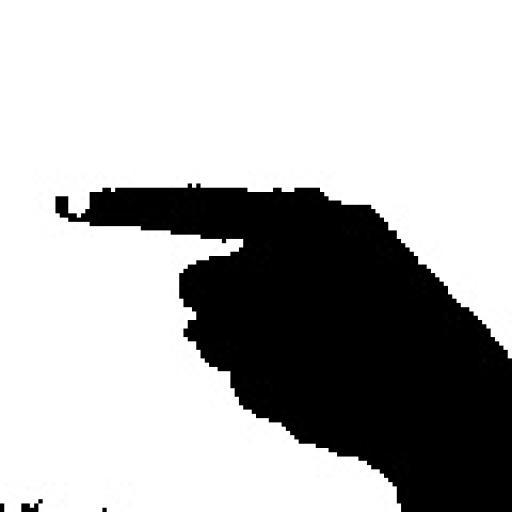index_left: (54, 181, 512, 386)
